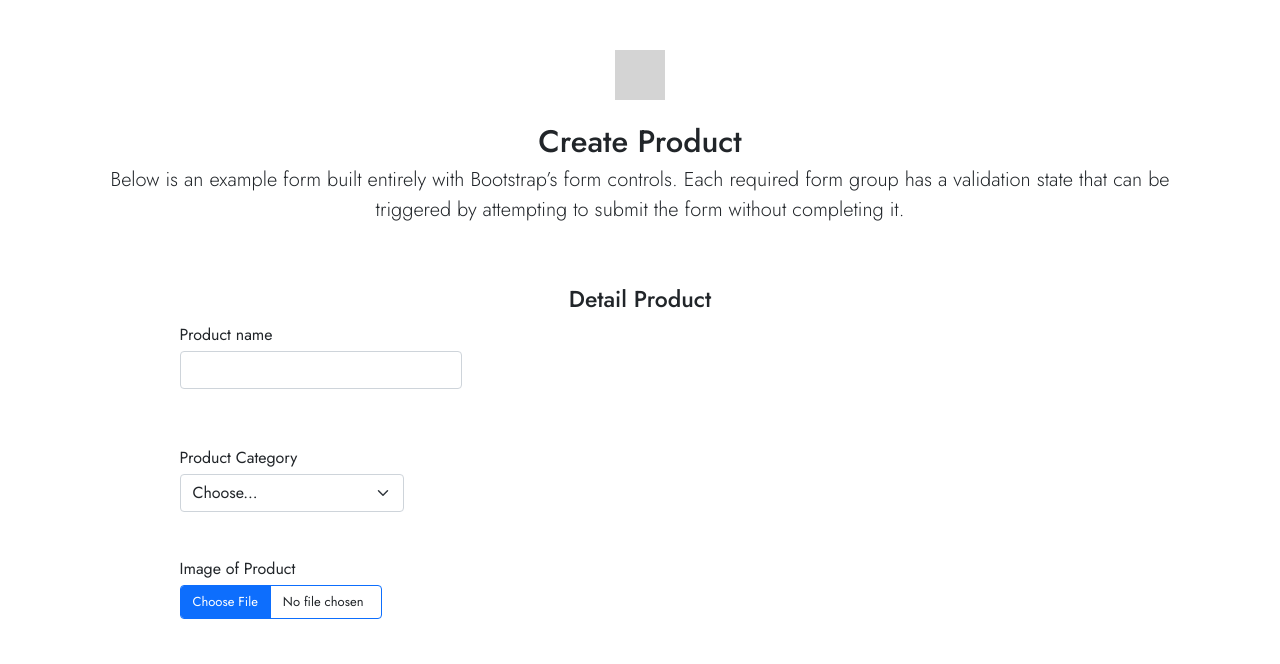
it: CreateProduct component › Product Name tidak boleh kosong, tidak mengandung karakter @/#{}.
Type "@Product#" into the field labelled "Product name" at (320, 370), box [180,351,462,389]
(page scrolled)
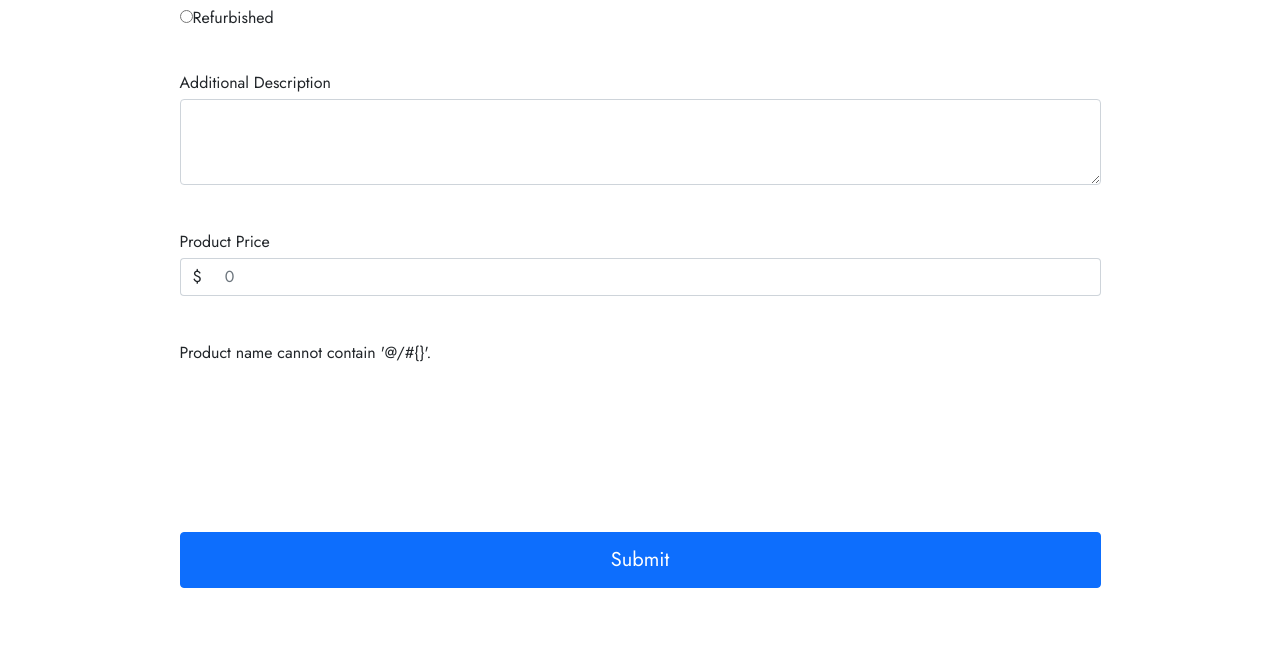
Expected: the text "Product name cannot contain '@/#{}'." is shown, [180,340,431,364]
